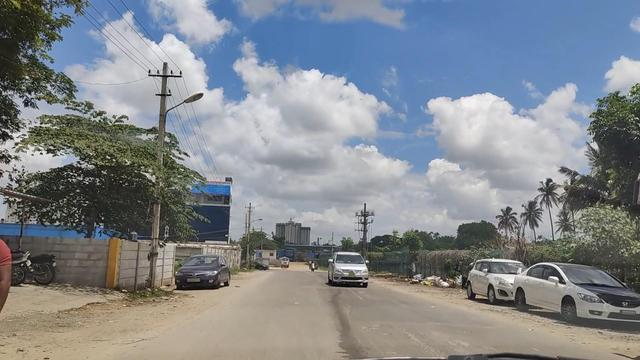LMV: (522, 258, 640, 333), (151, 242, 236, 291), (462, 253, 518, 308), (325, 252, 370, 289)
RoadDamages: (357, 315, 523, 360)
UnsurfacedRoad: (5, 308, 96, 355)
